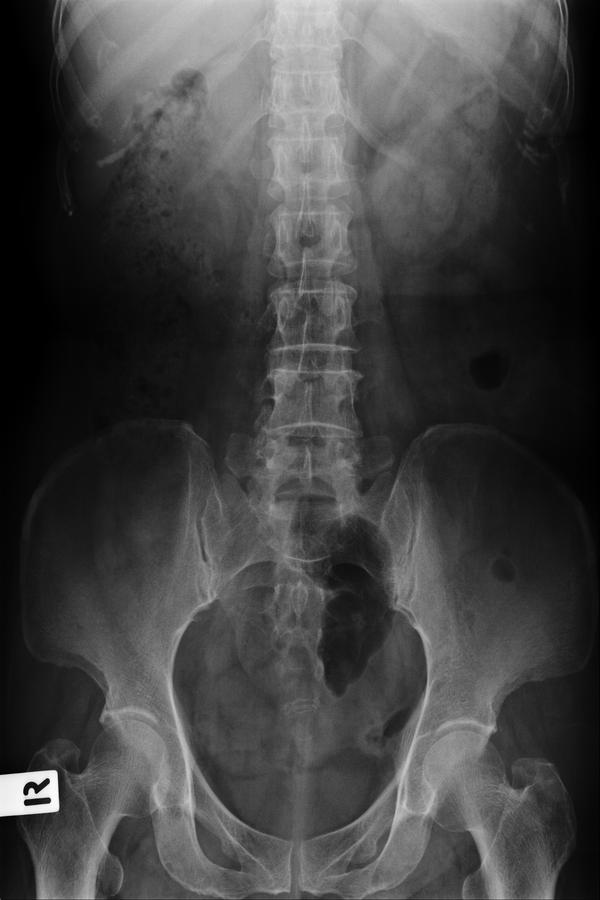not lumbar scoliosis: (253, 170, 370, 507)
